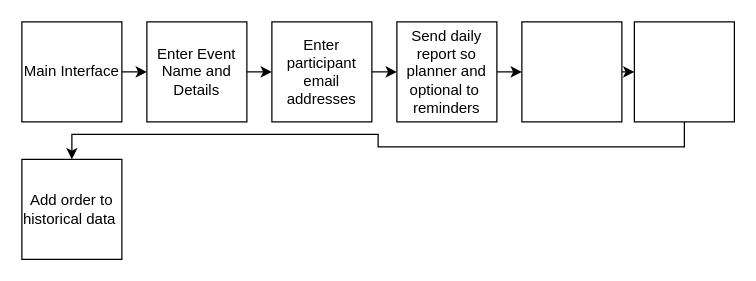
Some shapes in this 756 by 281 pixel diagram are drawn without their labels. The shapes that lost their labels are listed below. From the top down, each one's box as (x1, y1, x2, y2) in pixels, then its label:
(521, 21, 622, 122): Due date order review
(633, 21, 734, 122): Submit order to restaurant
